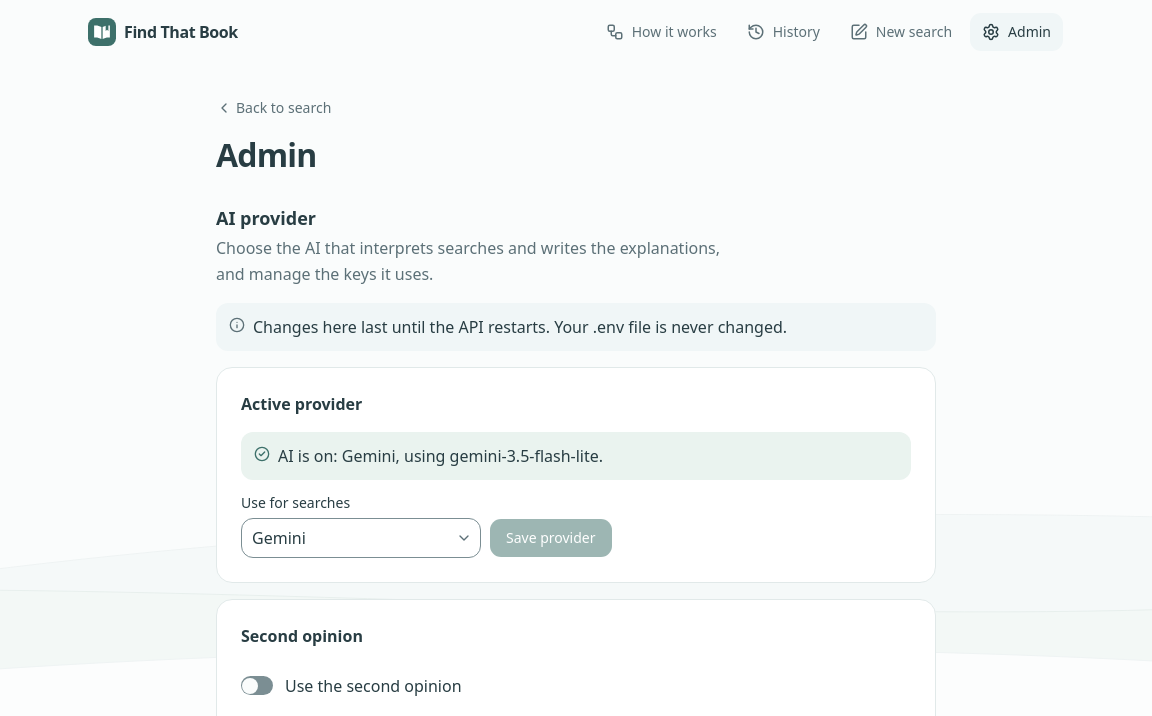
Test: Admin page › two quick changes end with the later one's status, even when the first answer is slower
This screenshot has width=1152, height=716.
Click the dropdown named "Use for searches" at point(361, 538), box [241,518,481,558]
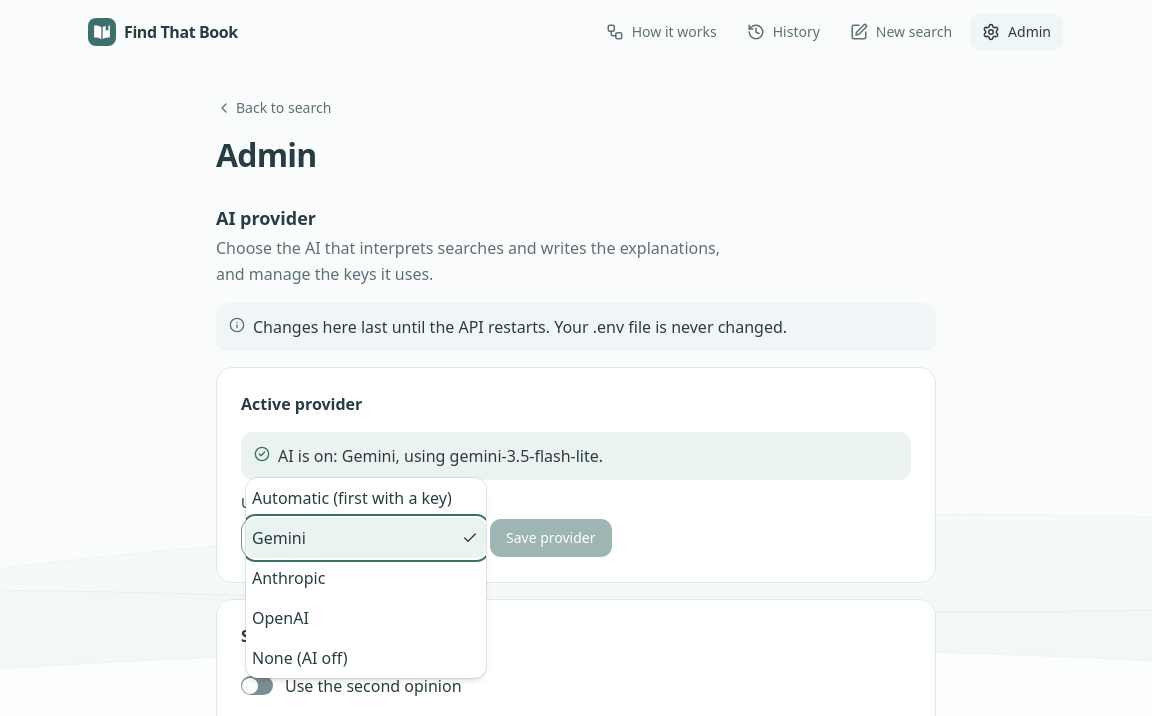
Click the option "OpenAI" at point(280, 618), box [252,607,309,629]
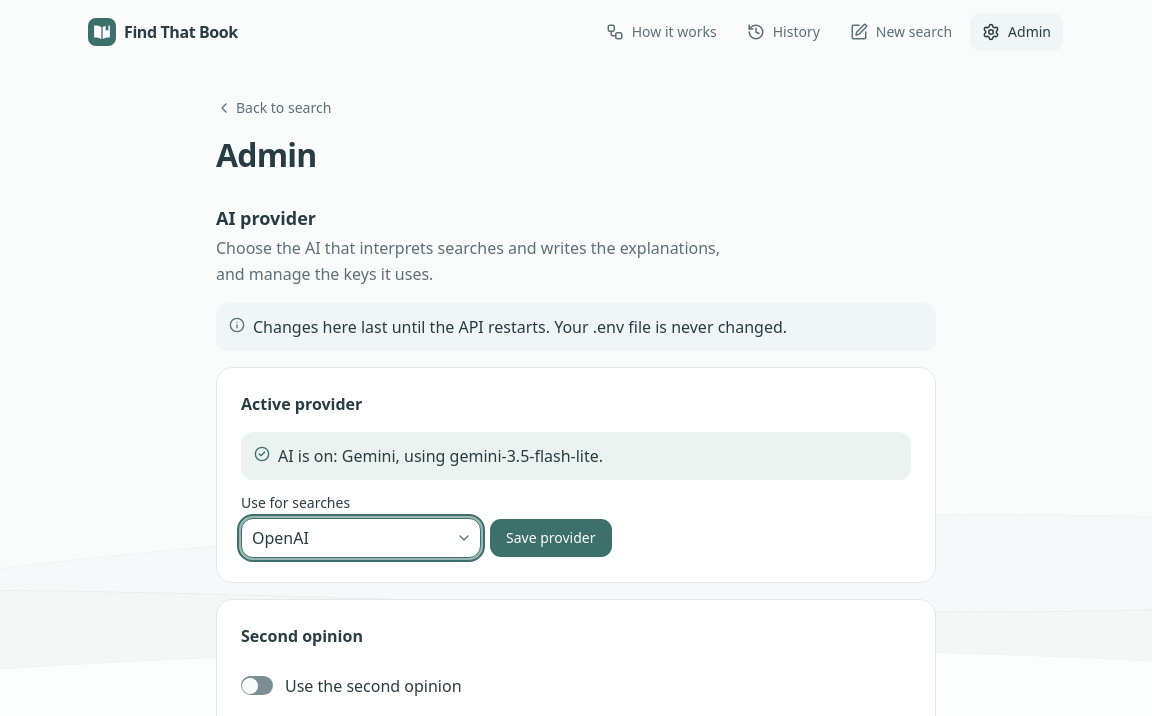
Click the button "Save provider" at point(551, 538), box [489,518,612,558]
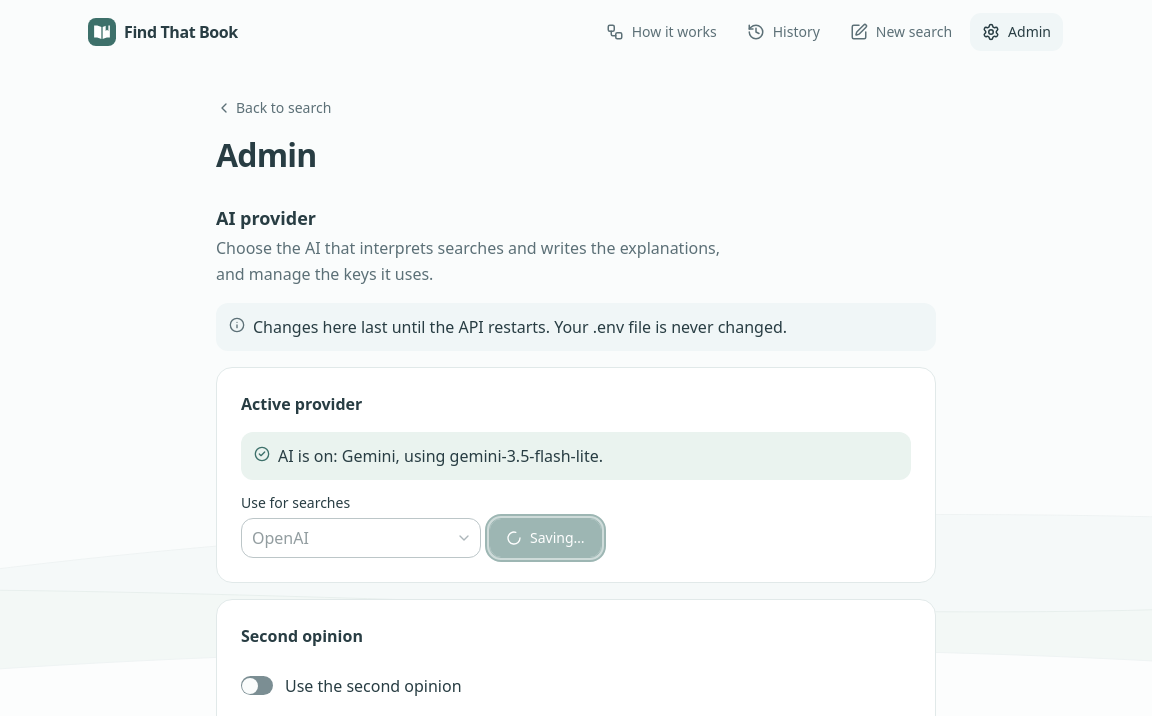
Click the switch named "Use the second opinion" at point(257, 686), box [241,676,273,695]
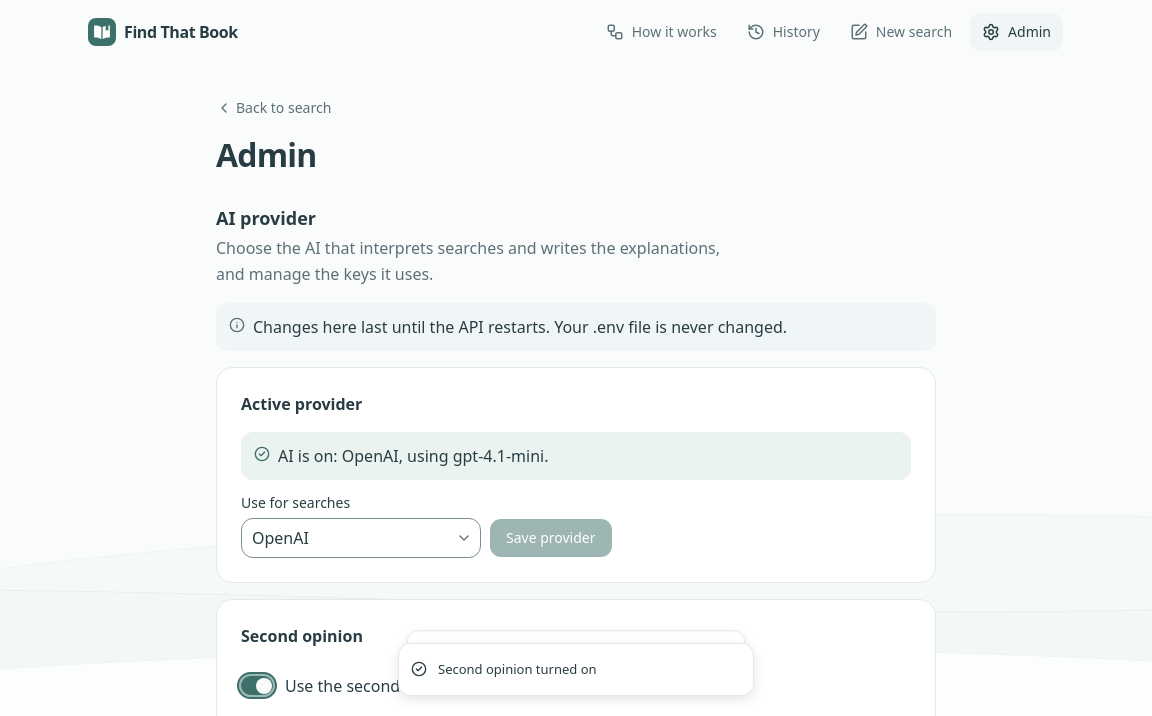
Expected: the switch named "Use the second opinion" is checked, [241,676,273,695]
Expected: the text "AI is on: OpenAI, using gpt-4.1-mini." is shown, [278,443,548,469]
